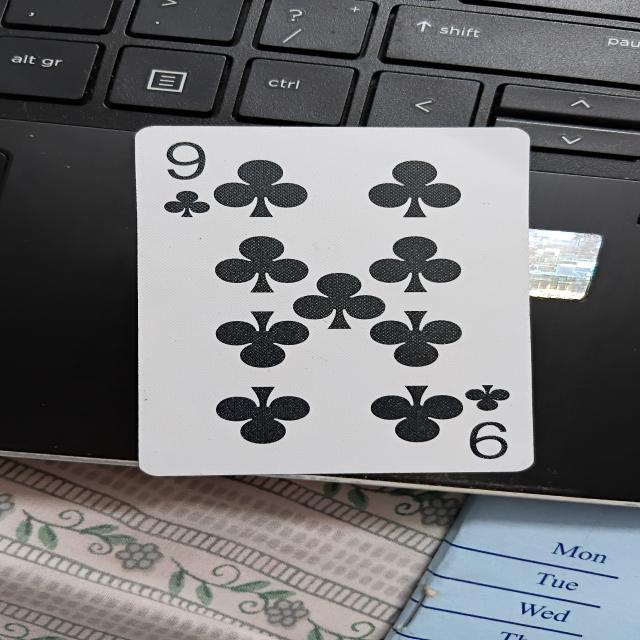9C: (140, 126, 532, 472)
